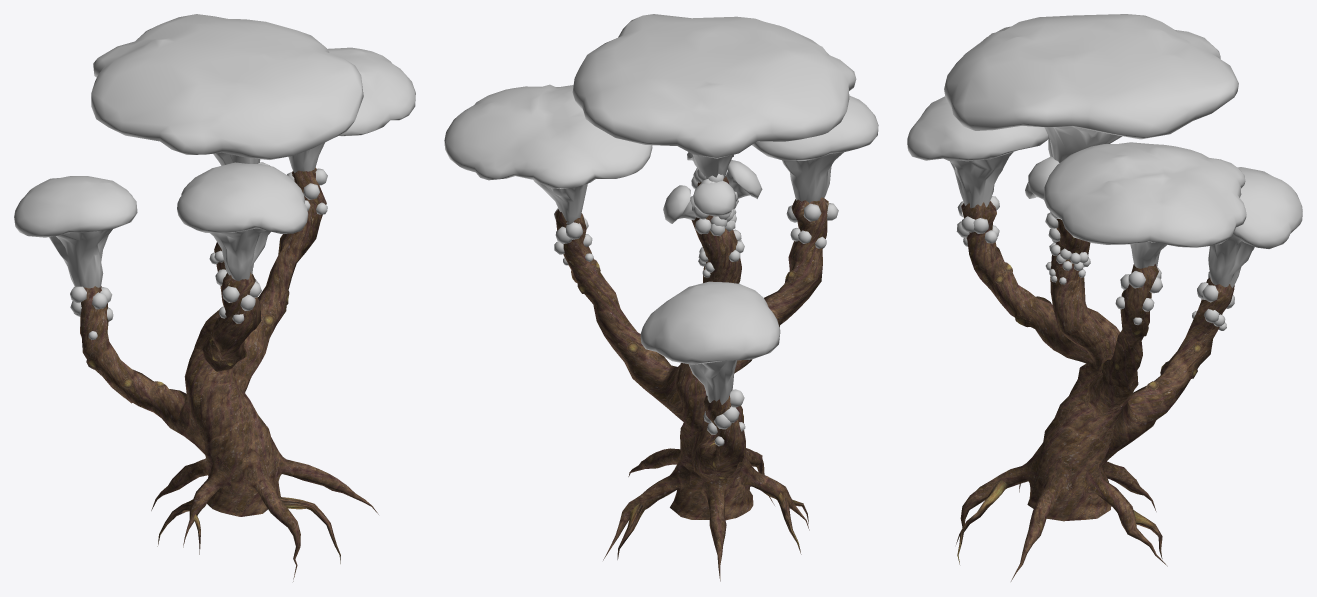
Rendered from Shrooomtree_3_L1.fbx.
3 renders of one model, left to right at view 1: azimuth 30°, elevation 25°; view 2: azimuth 150°, elevation 25°; view 3: azimuth 270°, elevation 25°, orthographic. The views are drawn at different scales.
Visible parts, largest first — view 1: polySurface158; view 2: polySurface158; view 3: polySurface158.
Boxes of the visible parts, left/top/right/bottom form: polySurface158: left=14, top=14, right=415, bottom=581; polySurface158: left=444, top=14, right=878, bottom=581; polySurface158: left=907, top=14, right=1302, bottom=581.
Size of the model in its own units: 802 by 1098 by 787.
